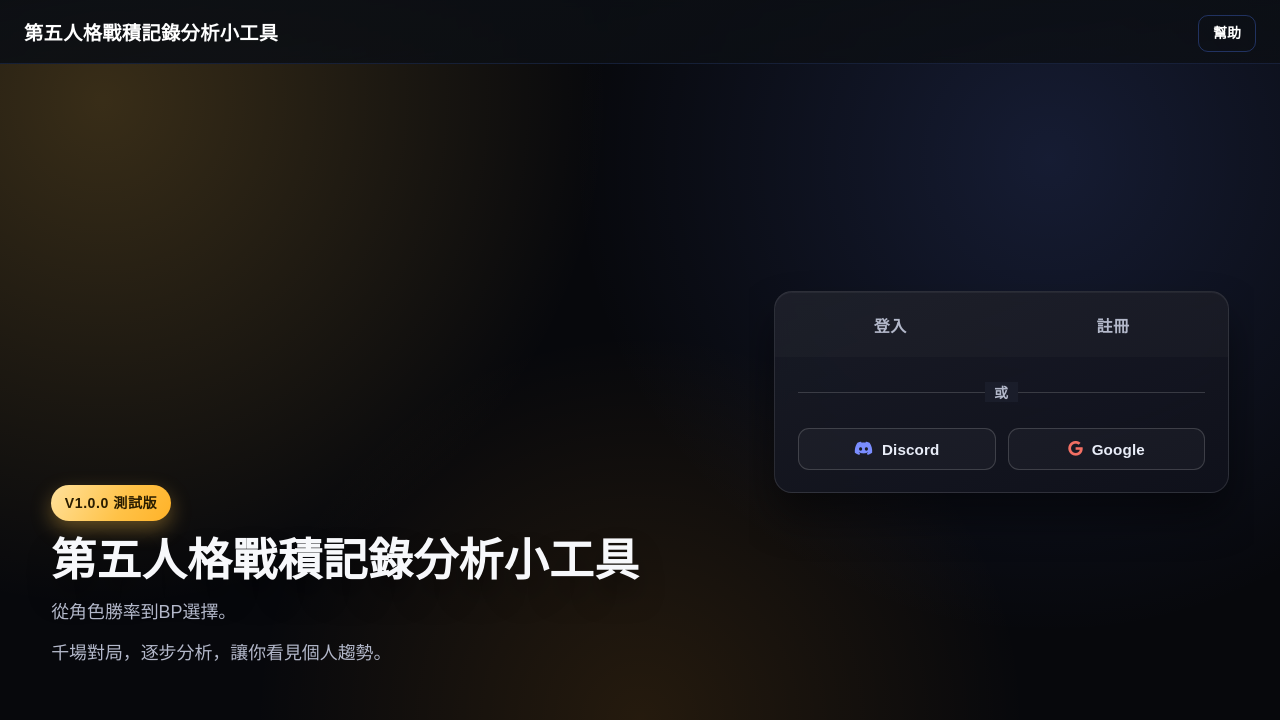
Test: Signin Page › displays error if getOAuthAuthorizeUrl fails with ApiError
Click the button "Google": (1106, 449) [1008, 428, 1205, 470]
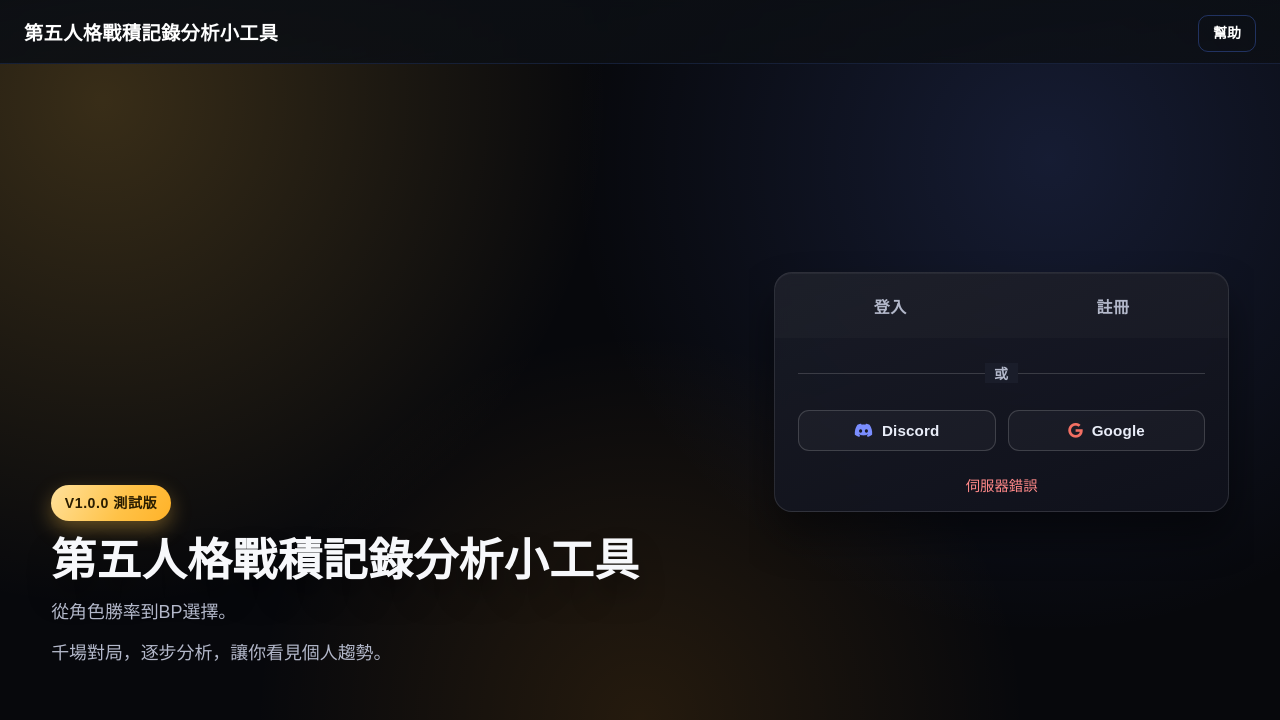
Check: the text "伺服器錯誤" is shown, box [966, 478, 1038, 494]
